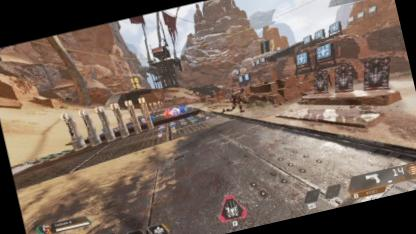Target: (220, 86, 250, 114)
